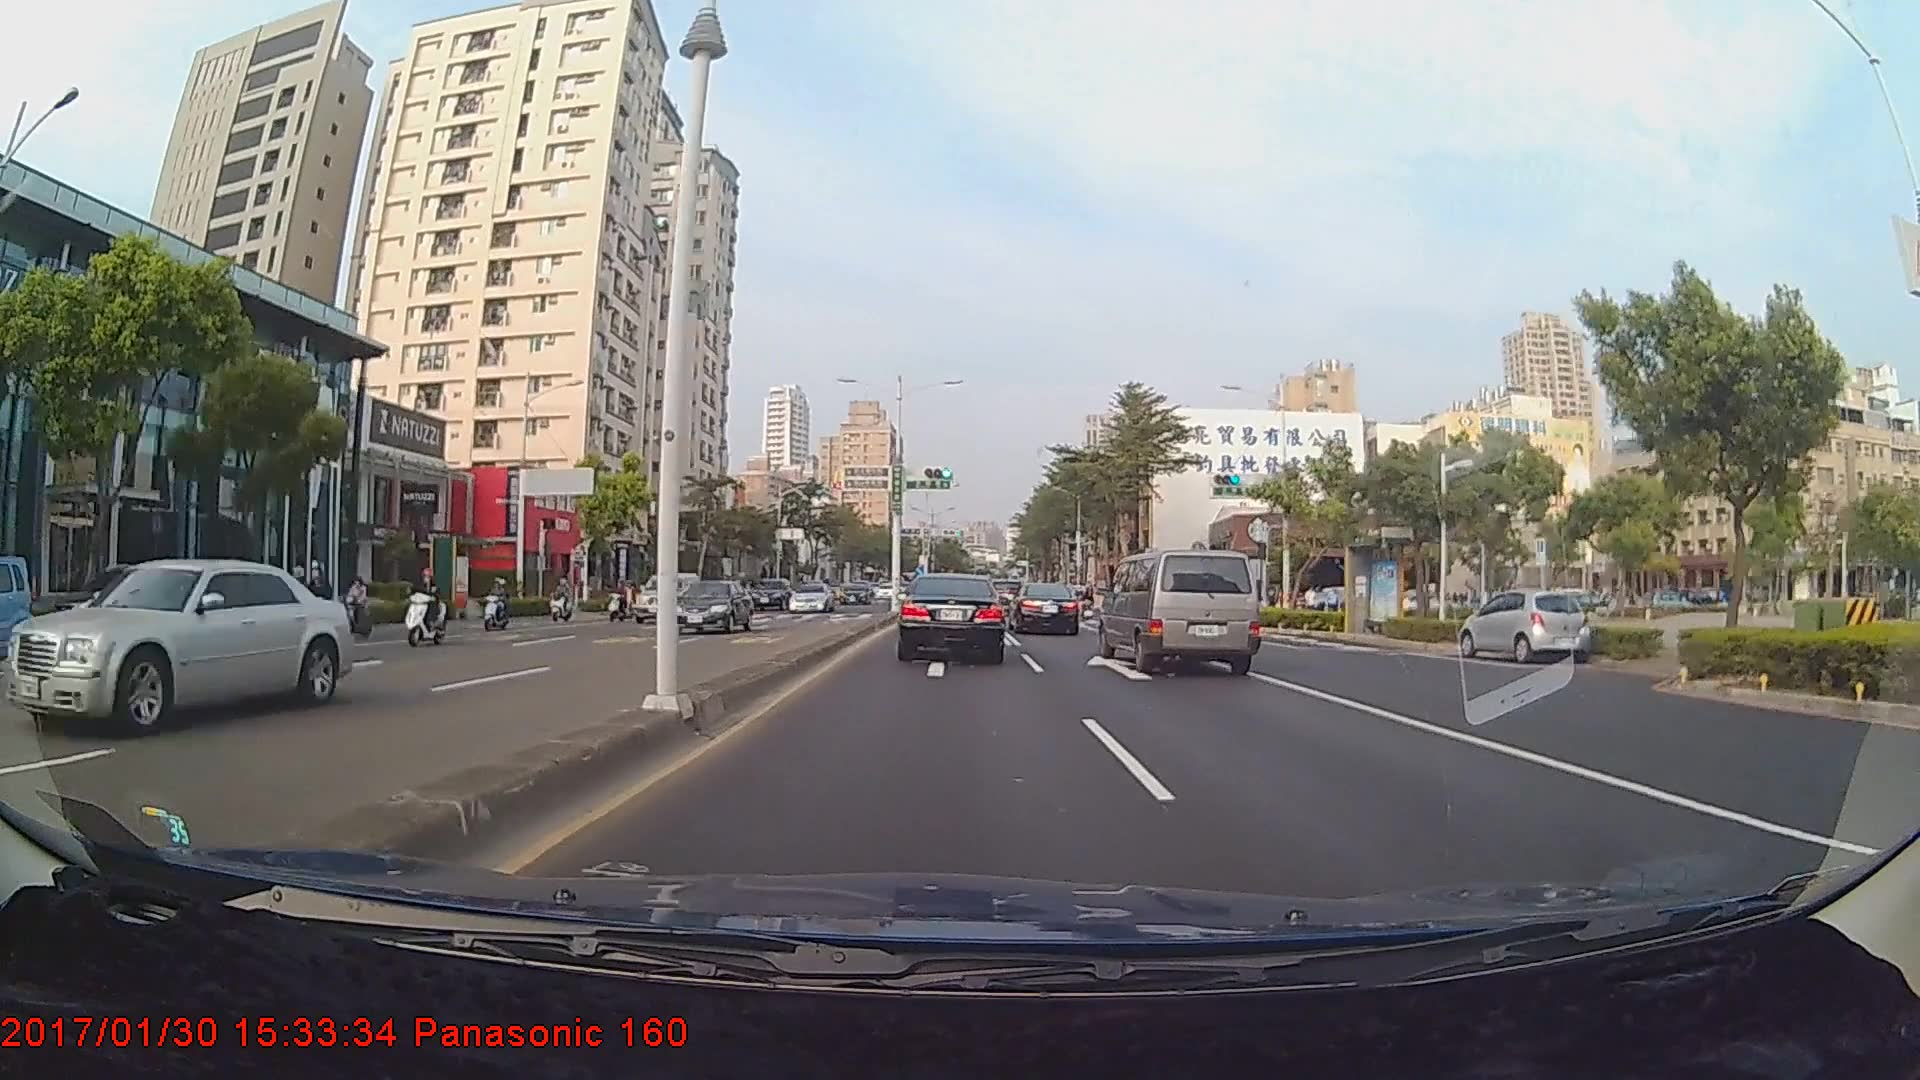rider: (296, 555, 344, 658), (399, 565, 456, 649), (334, 574, 375, 648), (481, 572, 513, 635)
vehicle: (0, 556, 353, 737), (1098, 542, 1263, 678), (899, 572, 1006, 663), (1461, 588, 1588, 664), (680, 580, 760, 635), (1008, 581, 1081, 636), (631, 571, 704, 622), (749, 575, 792, 612), (785, 583, 833, 614), (840, 580, 875, 605)
